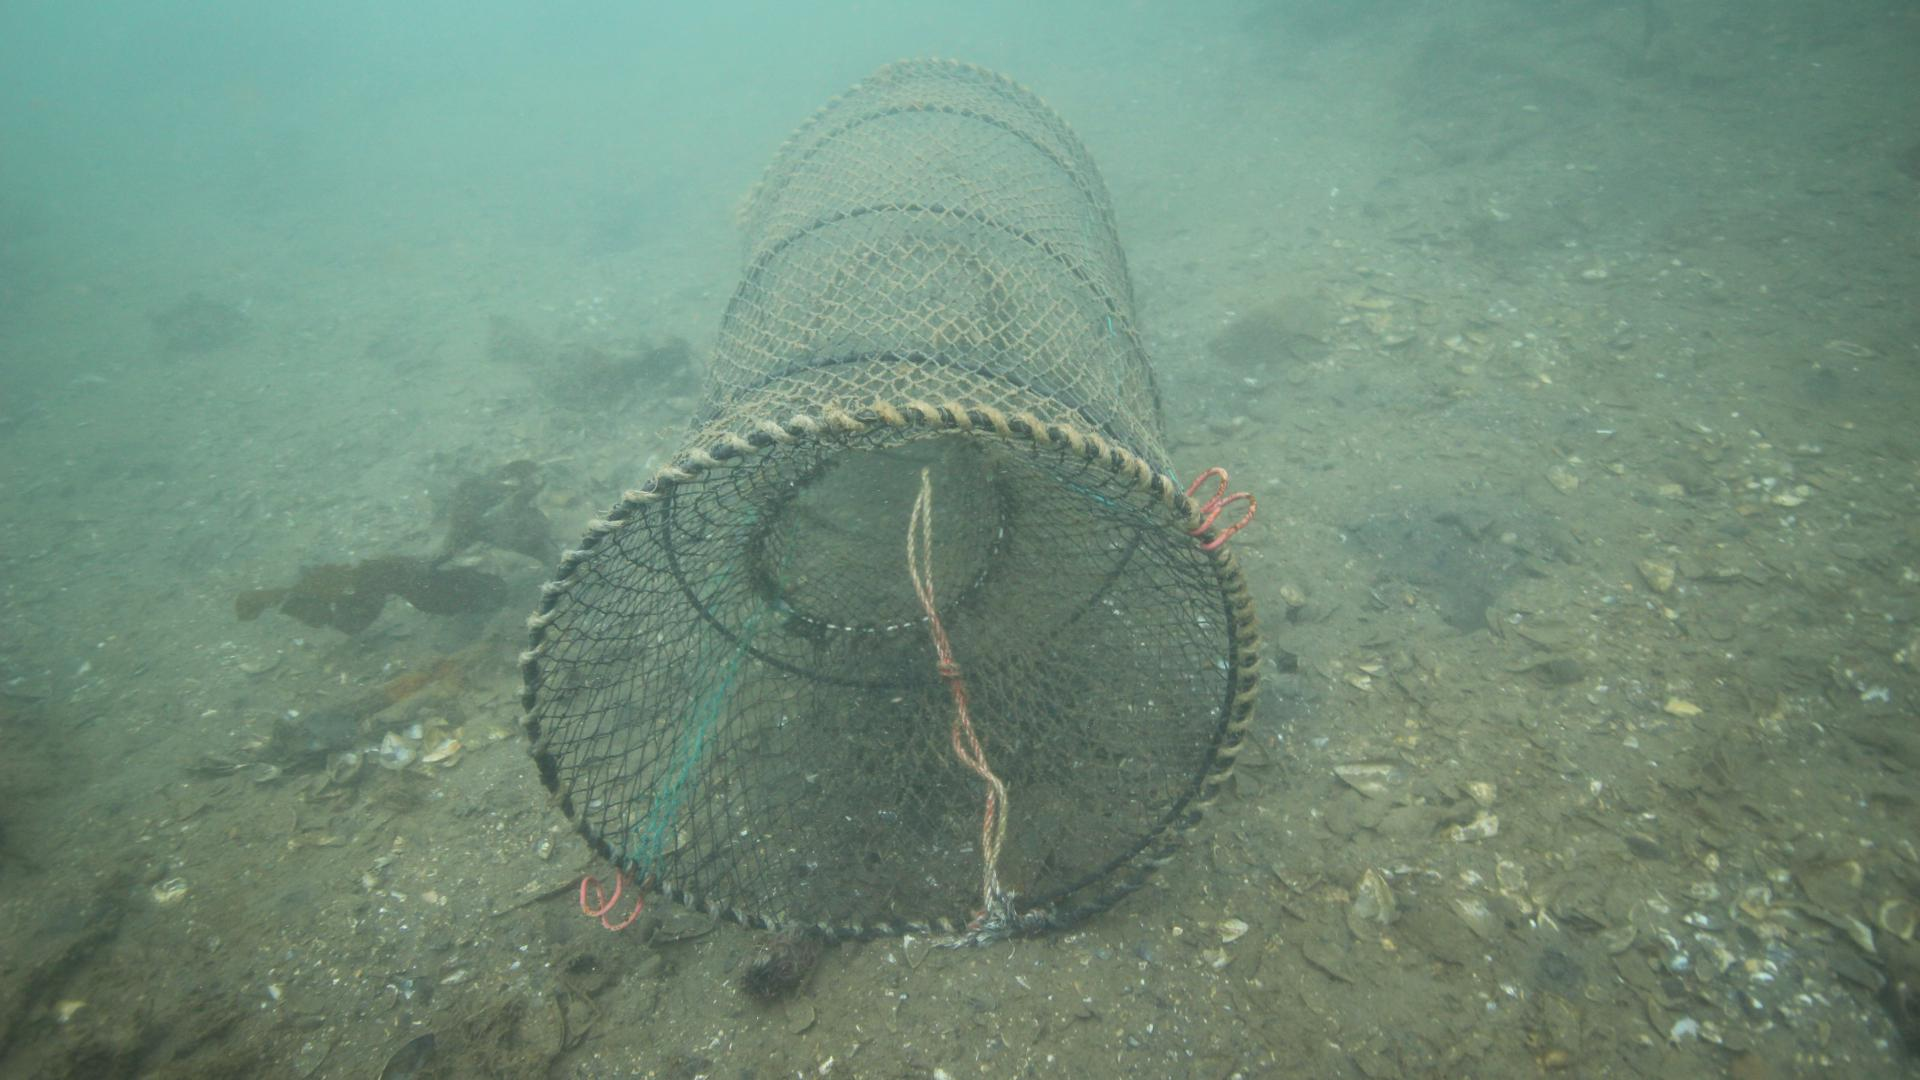spring fish trap: (517, 55, 1265, 942)
